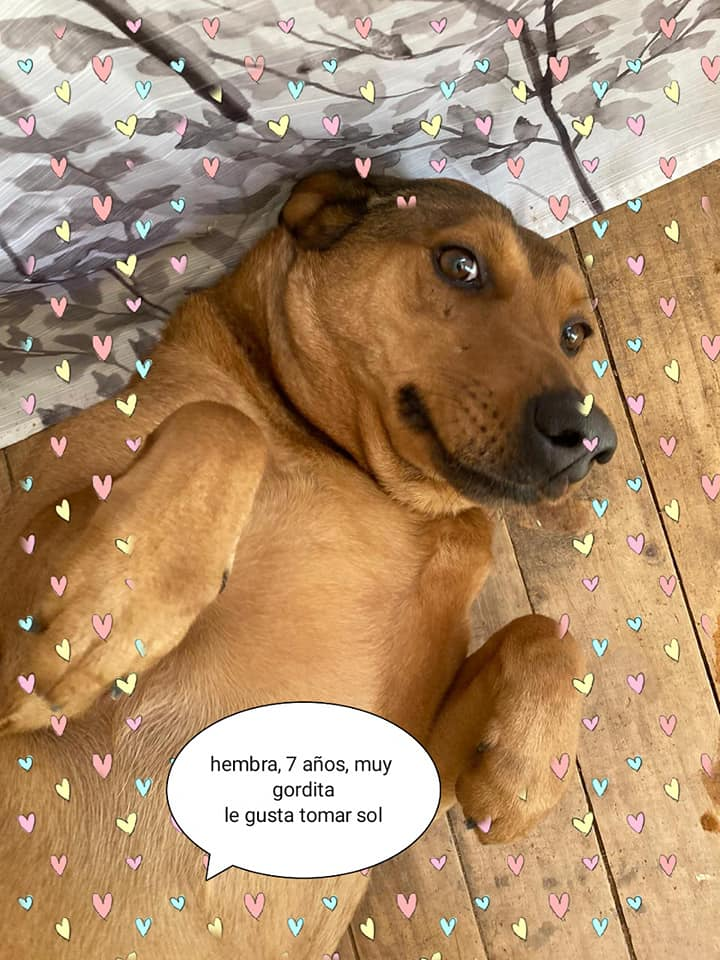dog: (1, 159, 626, 684)
